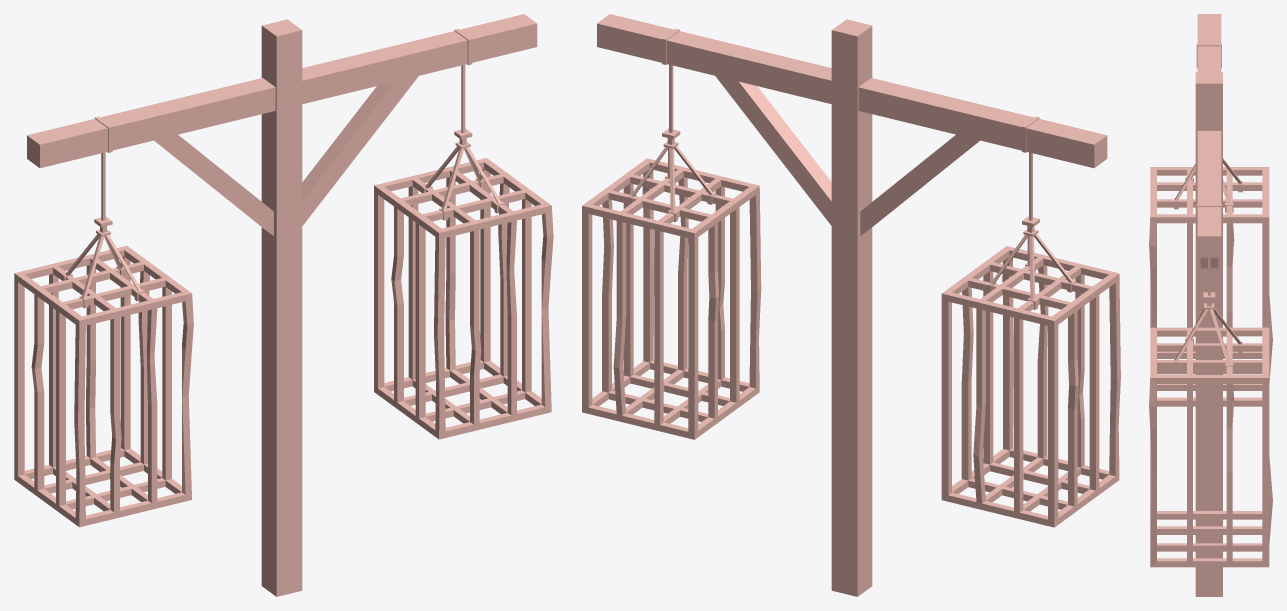
The model's file is Mega_Asset_s_Pack_Cube_331.FBX.
3 views of the same model, side by side, from view 1: azimuth 30°, elevation 25°; view 2: azimuth 150°, elevation 25°; view 3: azimuth 270°, elevation 25° (orthographic). The views are drawn at different scales.
Visible parts, largest first — view 1: Mega_Asset_s_Pack_Cube_331; view 2: Mega_Asset_s_Pack_Cube_331; view 3: Mega_Asset_s_Pack_Cube_331.
Part boxes in pixels (x1,y1,x2,y2): Mega_Asset_s_Pack_Cube_331: (14, 14, 553, 596); Mega_Asset_s_Pack_Cube_331: (582, 14, 1120, 596); Mega_Asset_s_Pack_Cube_331: (1149, 14, 1272, 596).
Size of what is drawn, in the model's own units: 999 by 235 by 1075.
